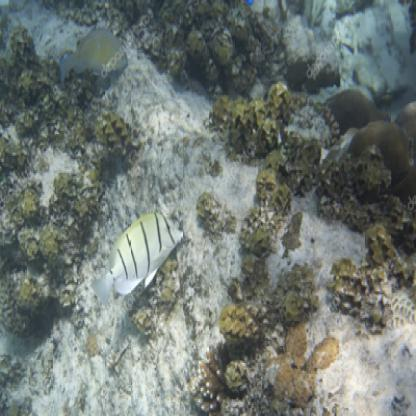Acanthuridae -Surgeonfishes-: (90, 211, 186, 313)
